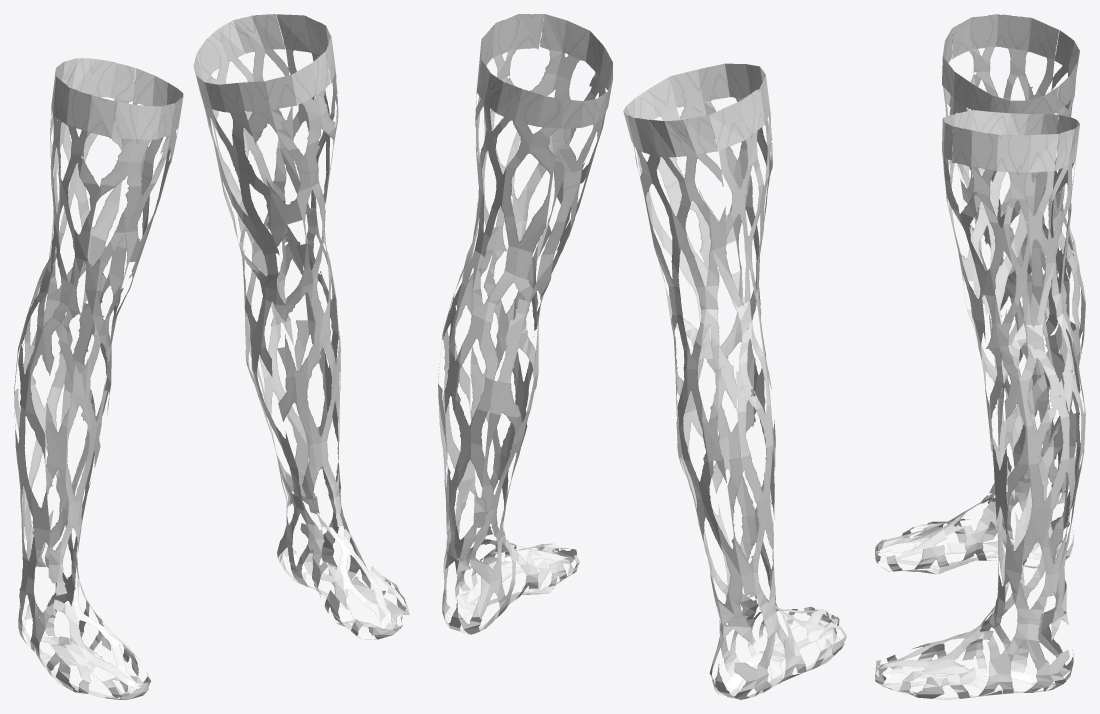
The model's file is mhw_v0rt3x_stockings_white_fishnet_large.glb.
3 renders of one model, left to right at view 1: azimuth 30°, elevation 25°; view 2: azimuth 150°, elevation 25°; view 3: azimuth 270°, elevation 25°, orthographic. The views are drawn at different scales.
Parts seen in each view (by area): view 1: mhw_v0rt3x_stockings_white_fishnet_large; view 2: mhw_v0rt3x_stockings_white_fishnet_large; view 3: mhw_v0rt3x_stockings_white_fishnet_large.
Part boxes in pixels (x1=…): mhw_v0rt3x_stockings_white_fishnet_large: x1=14, y1=14, x2=409, y2=699; mhw_v0rt3x_stockings_white_fishnet_large: x1=438, y1=14, x2=846, y2=699; mhw_v0rt3x_stockings_white_fishnet_large: x1=875, y1=14, x2=1085, y2=699.
Size of the model in its own units: 0.545 by 0.8774 by 0.3031.
Materials: 1 (1 with a texture image).
